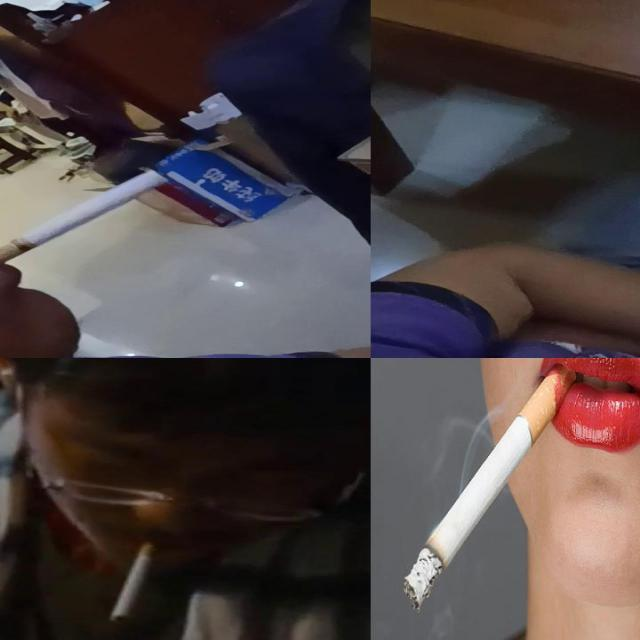smoking: (403, 366, 593, 610), (0, 168, 175, 274), (108, 536, 162, 624)
